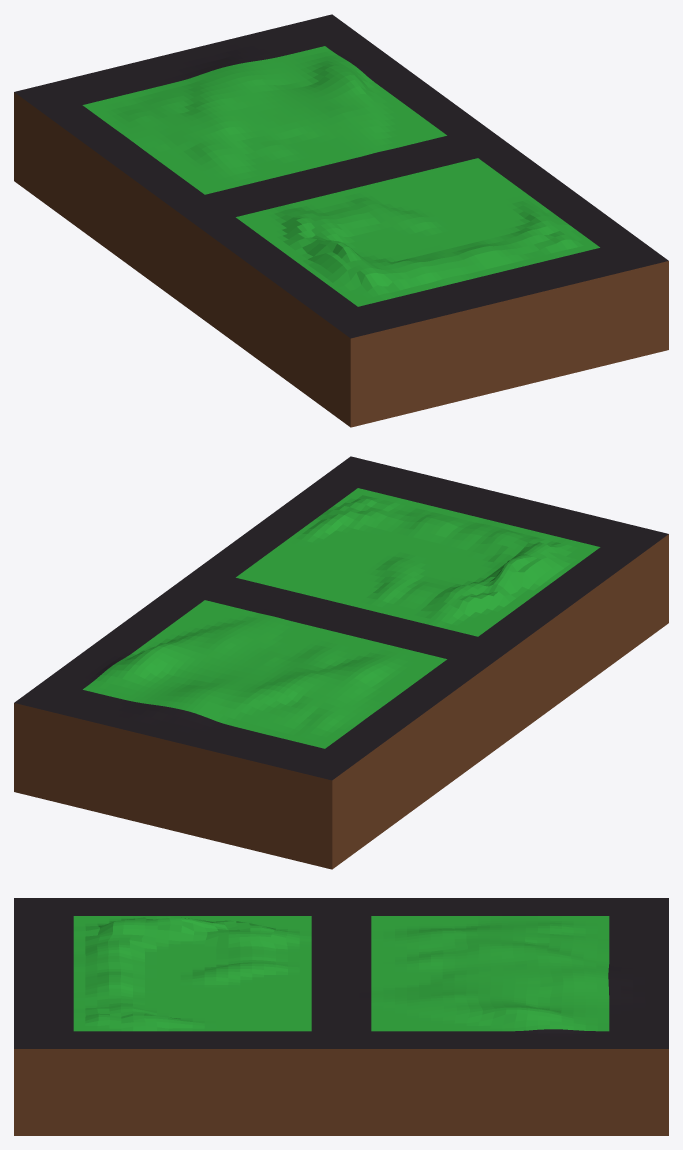
The picture shows the model from 3 angles, top to bottom: view 1: azimuth 30°, elevation 25°; view 2: azimuth 150°, elevation 25°; view 3: azimuth 270°, elevation 25°; orthographic projection. The views are drawn at different scales.
Parts seen in each view (by area): view 1: Cube.001; view 2: Cube.001; view 3: Cube.001.
Part boxes in pixels (<box>): Cube.001: <box>14,14,668,427</box>; Cube.001: <box>14,456,668,869</box>; Cube.001: <box>14,898,668,1135</box>.
Bounding box in the file's own units: 1122 × 351 × 2056.
